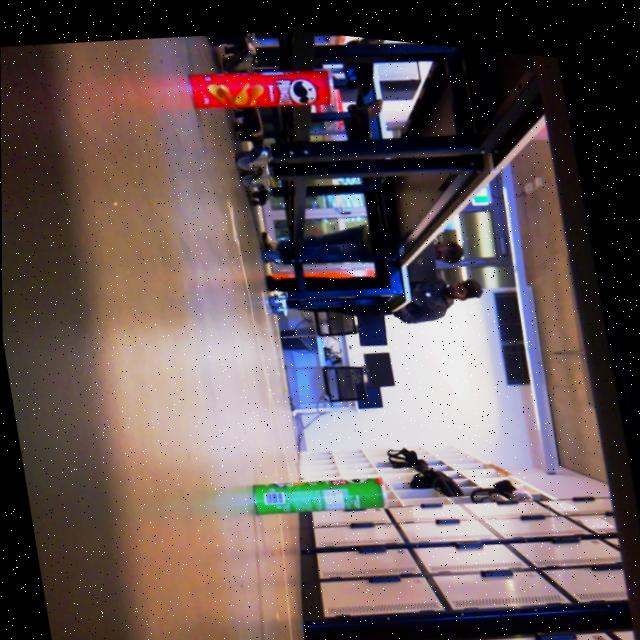greenpringles: (233, 433, 408, 540)
redpringles: (173, 32, 362, 138)
